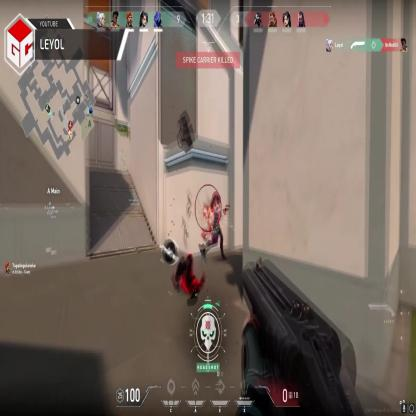enemy: (202, 190, 226, 262)
enemy_head: (216, 195, 221, 206)
